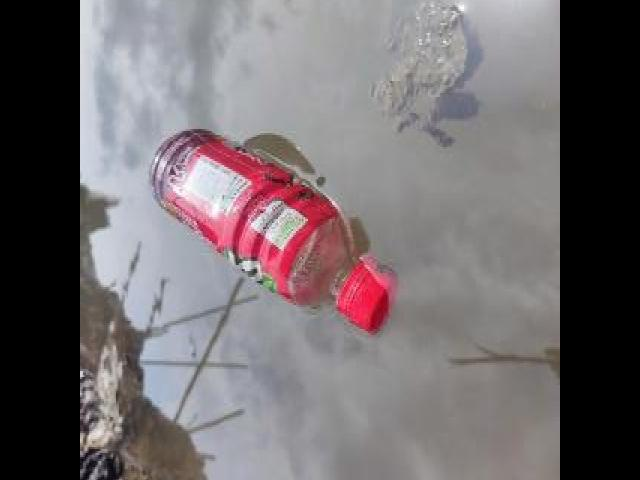Bottle: (137, 120, 399, 370)
